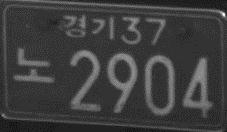0: (143, 54, 175, 117)
2: (67, 48, 101, 112)
3: (120, 15, 142, 45)
4: (181, 56, 214, 117)
7: (144, 16, 166, 46)
9: (106, 52, 138, 114)
경기_O: (62, 13, 115, 40)
노: (12, 46, 55, 85)
